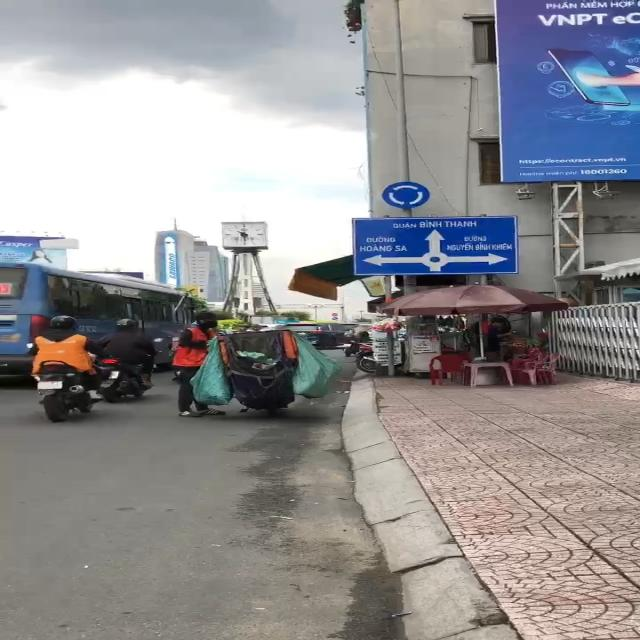Bien bao noi giao nhau chay theo vong xuyen: (375, 177, 439, 213)
